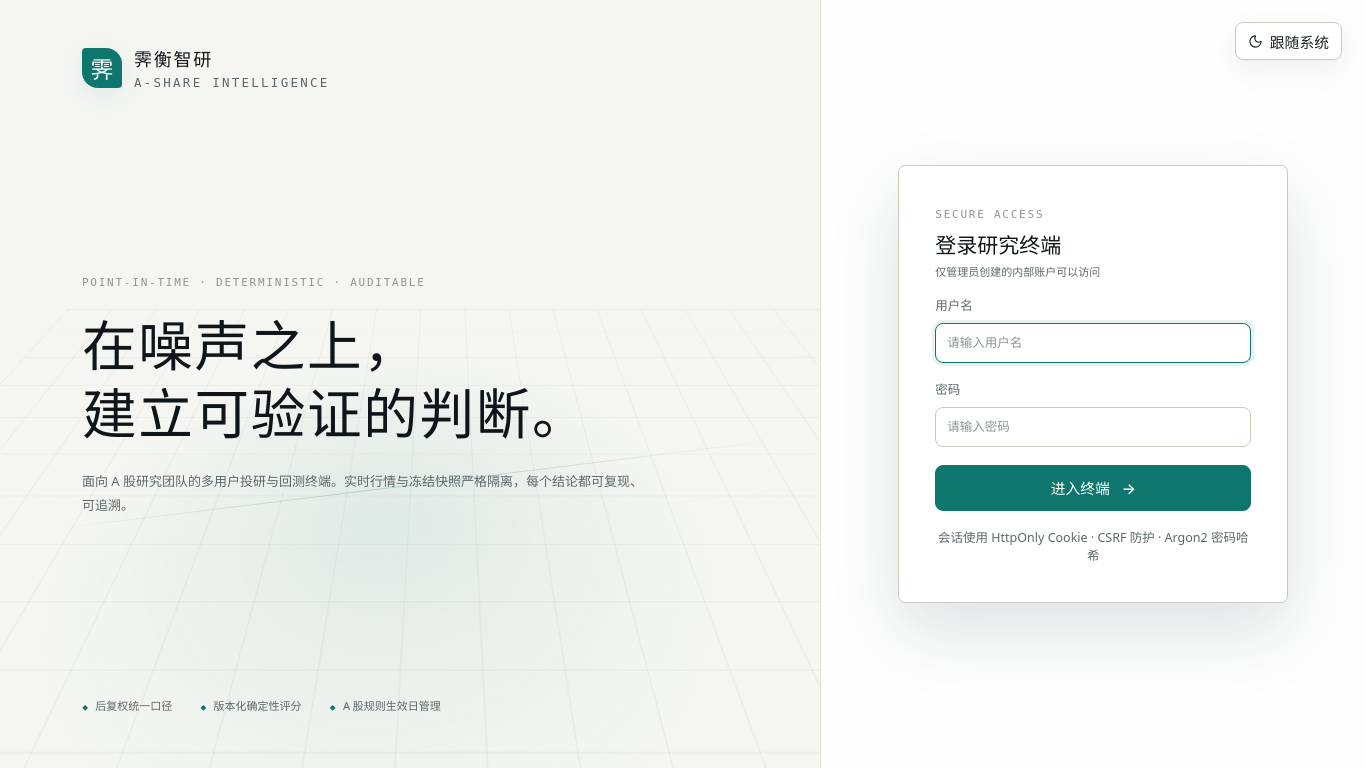
login flow › restores unauthenticated state and submits built-in account login
Type "analyst" into the field with placeholder "请输入用户名".
click(1093, 343); type("analyst")  # box x1=935 y1=323 x2=1251 y2=363
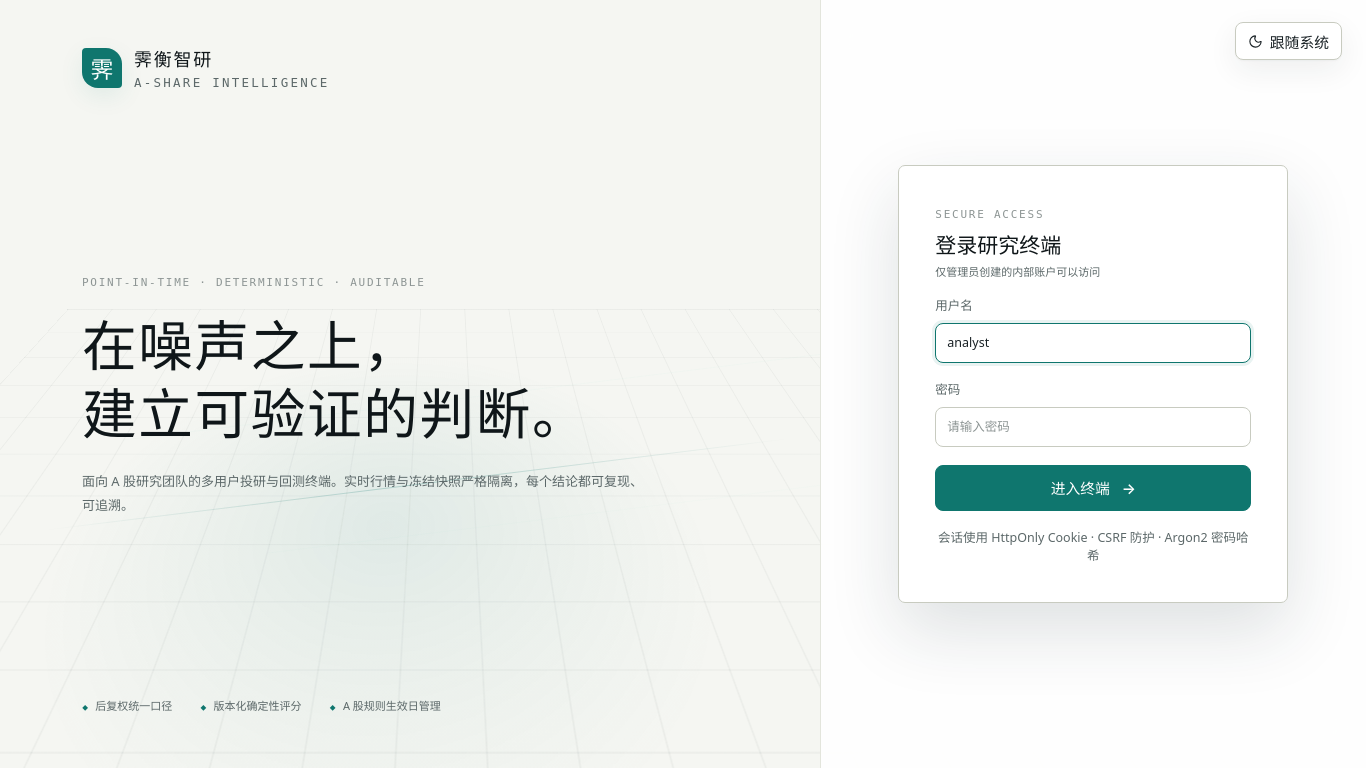
Type "secure-password" into the password field with placeholder "请输入密码".
click(1093, 426); type("secure-password")  # box x1=935 y1=406 x2=1251 y2=446
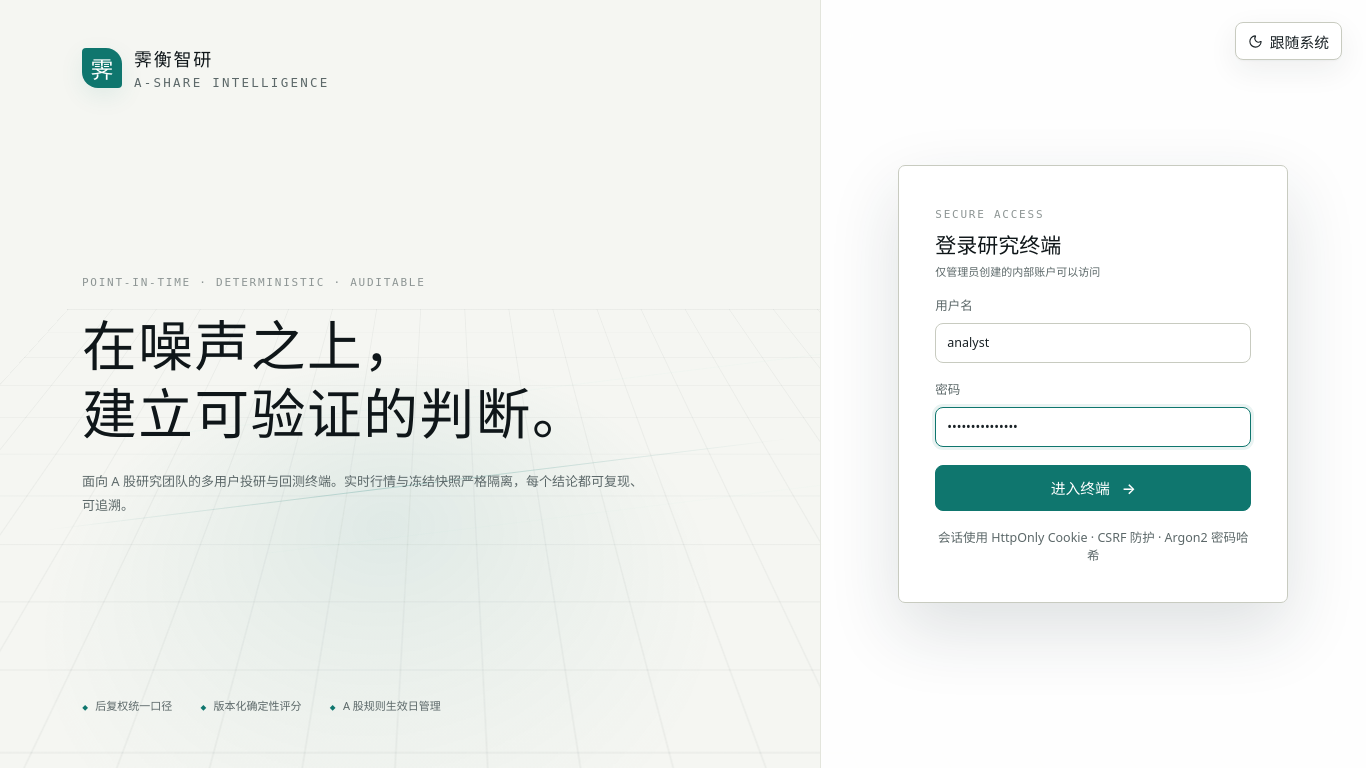
Click the button "进入终端 →".
click(1093, 488)  # box x1=935 y1=464 x2=1251 y2=510
(page scrolled)
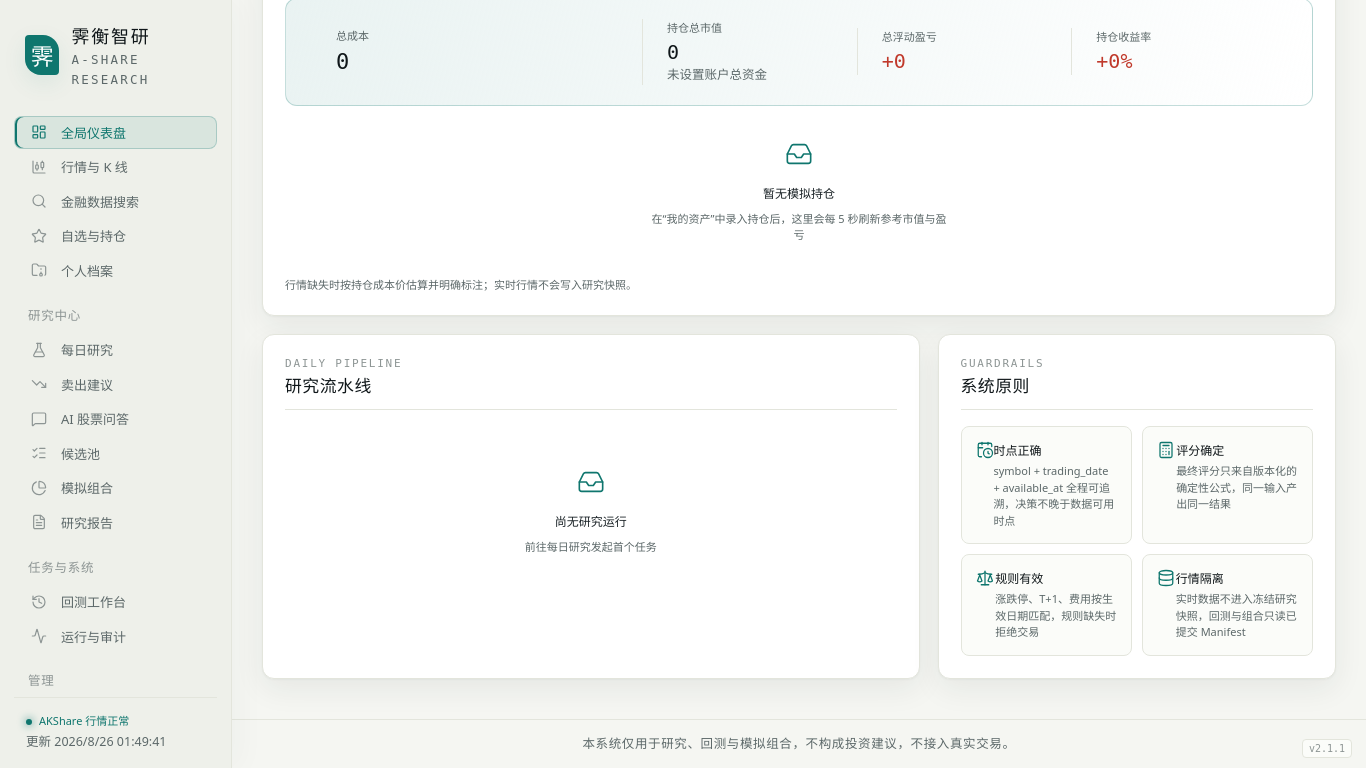
Expected: the text "v2.1.1" is shown, x1=1302 y1=739 x2=1352 y2=758
